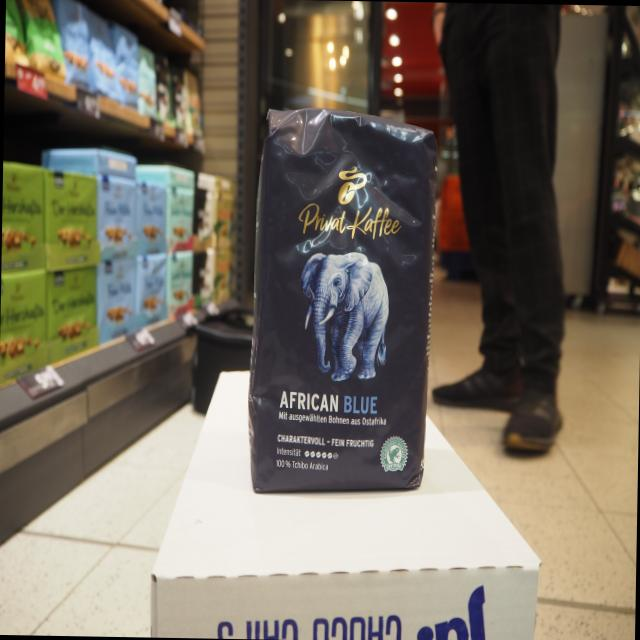AB Bohne: (246, 102, 440, 501)
